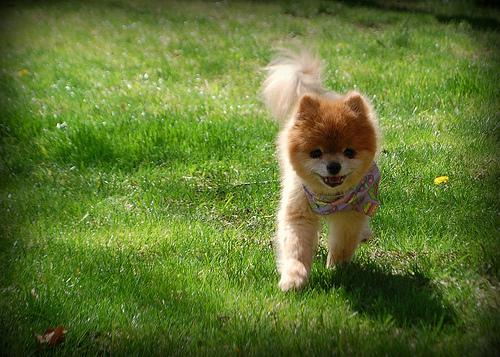dog-pomeranian: (287, 93, 373, 192)
